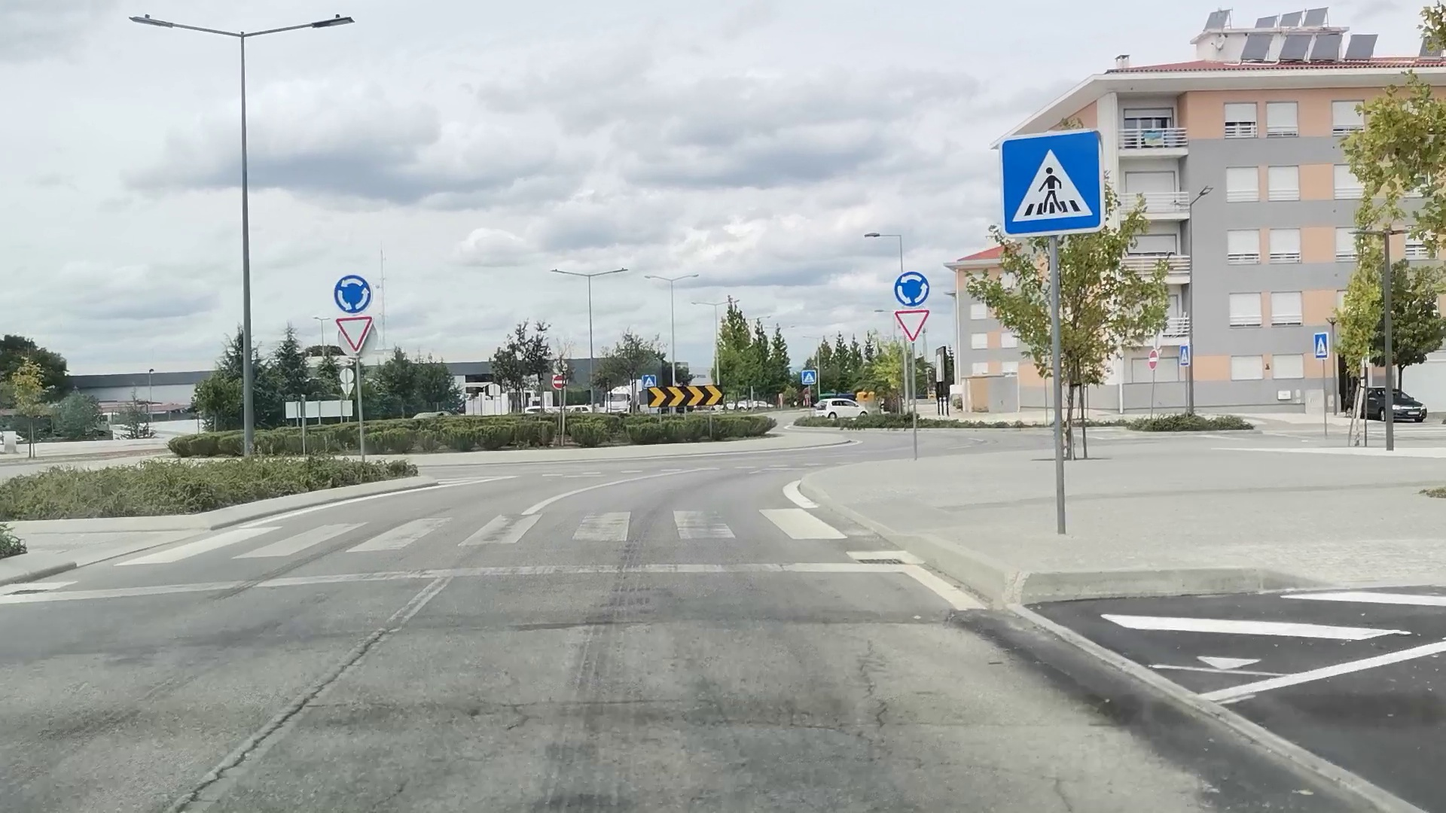Stairs: (115, 506, 849, 566)
